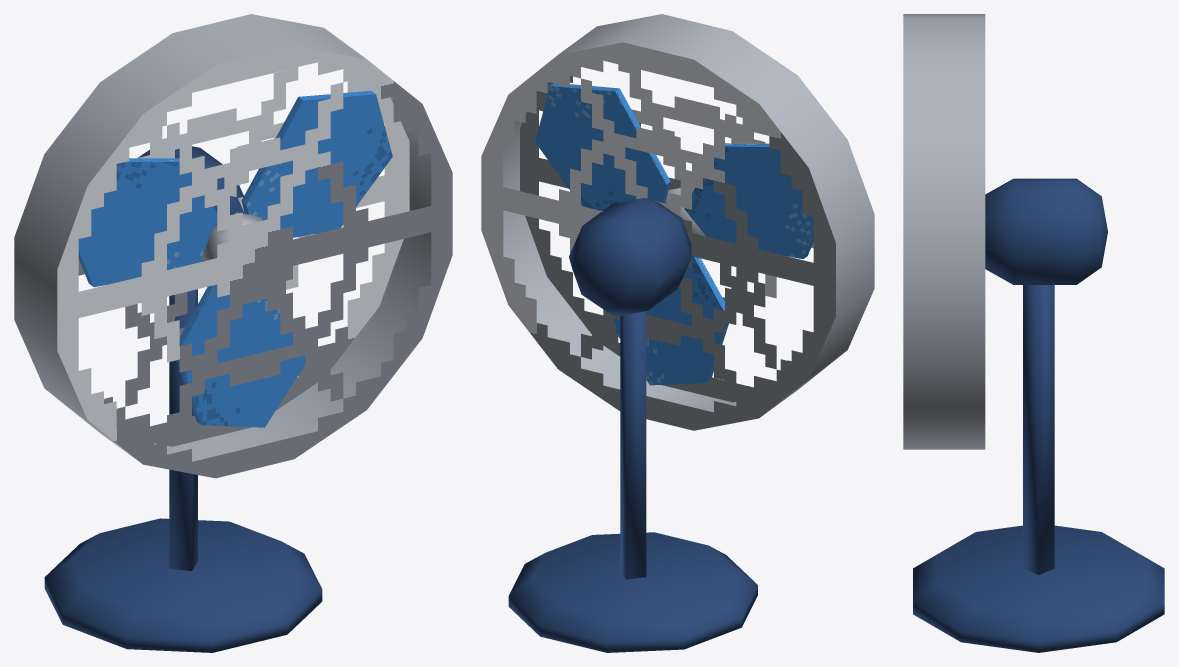
File: home-electricFan.glb
The picture shows the model from 3 angles, left to right: view 1: azimuth 30°, elevation 25°; view 2: azimuth 150°, elevation 25°; view 3: azimuth 270°, elevation 25°; orthographic projection. The views are drawn at different scales.
Visible parts, largest first — view 1: home.electricFan; view 2: home.electricFan; view 3: home.electricFan.
Part boxes in pixels (x1,y1,x2,y2): home.electricFan: (14,14,452,652); home.electricFan: (481,14,874,652); home.electricFan: (903,14,1164,652).
Size of the model in its own units: 1.28 by 1.83 by 0.771.
Materials: 4 (4 with a texture image).
